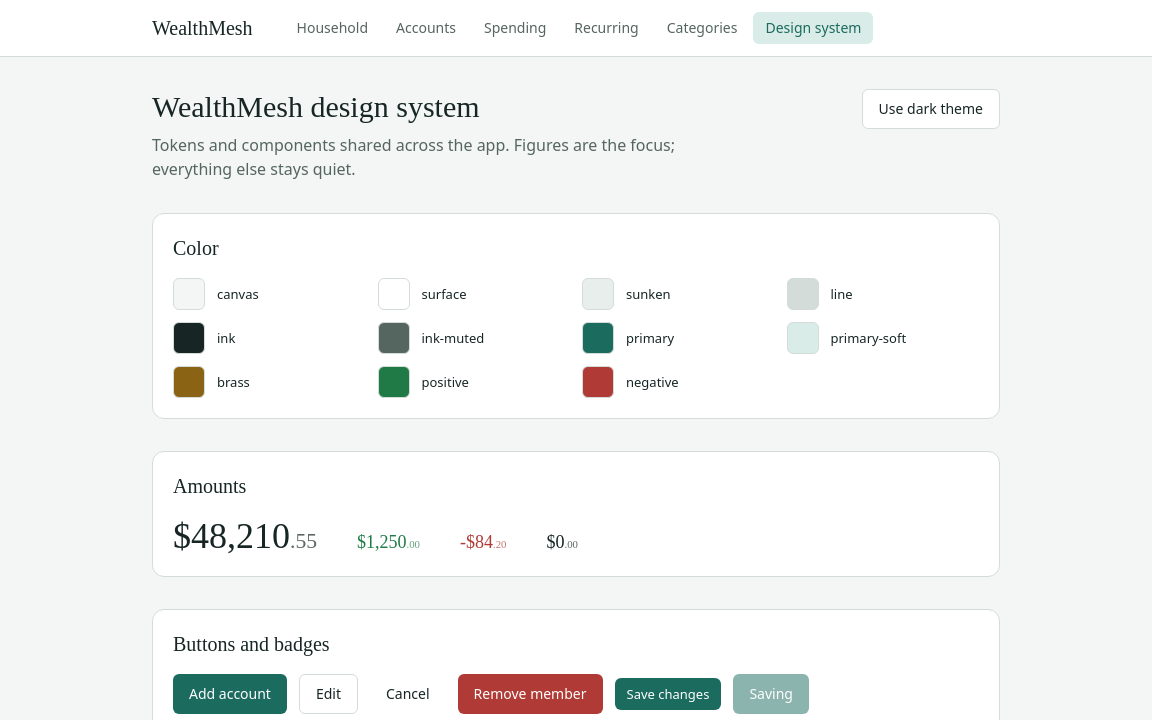
Test case: AppLayout › navigates between pages without a reload and updates the title
Click the link "Household" at (332, 28), box top-left (297, 18), bottom-right (368, 37)
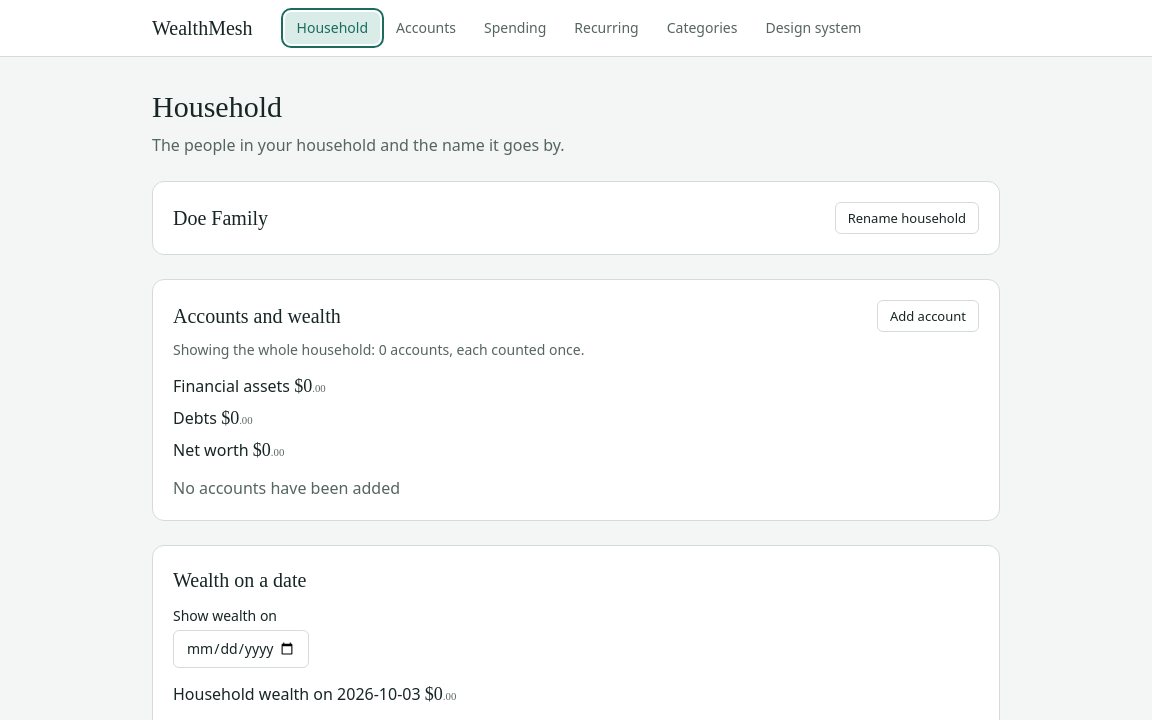
Expected: the heading "Doe Family" is shown, top-left (173, 204), bottom-right (268, 232)
